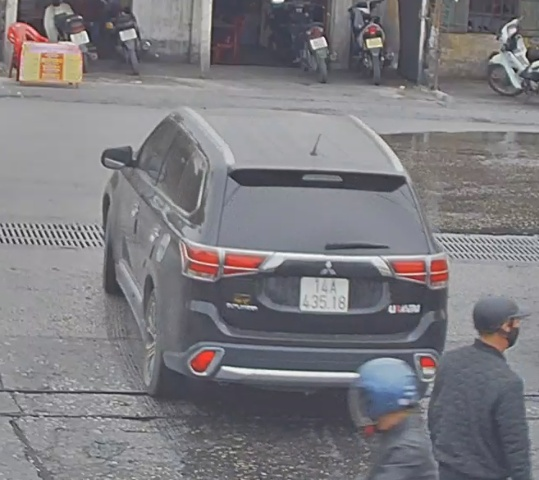vehicle plate: (299, 270, 348, 316)
